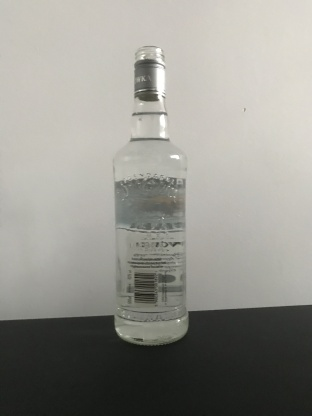nakretka: (131, 43, 168, 101)
